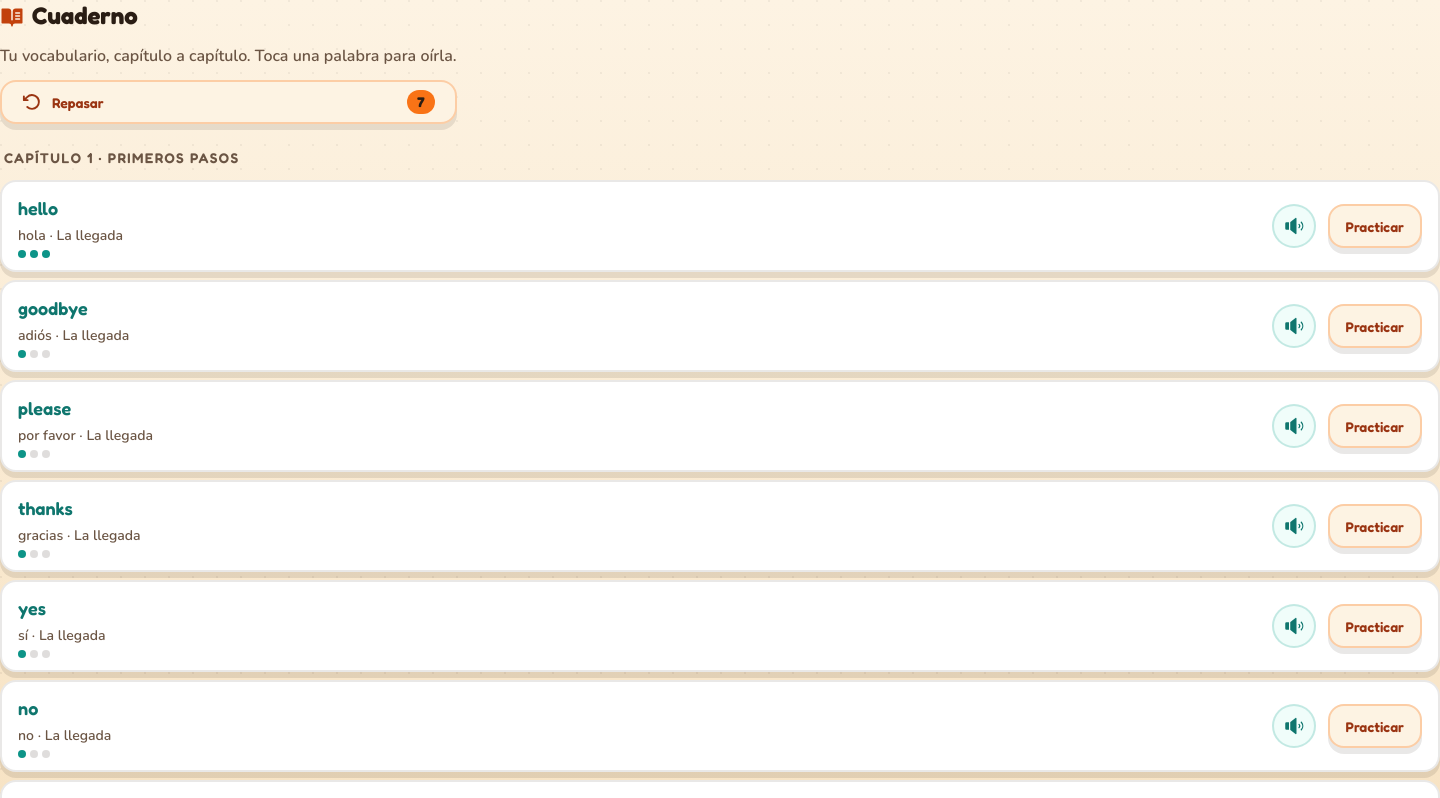
Notebook practice › solving an existing card keeps it untouched
Click the button with aria-label "Practicar hello". click: {"x": 1375, "y": 226}
box: x1=1328 y1=204 x2=1422 y2=248
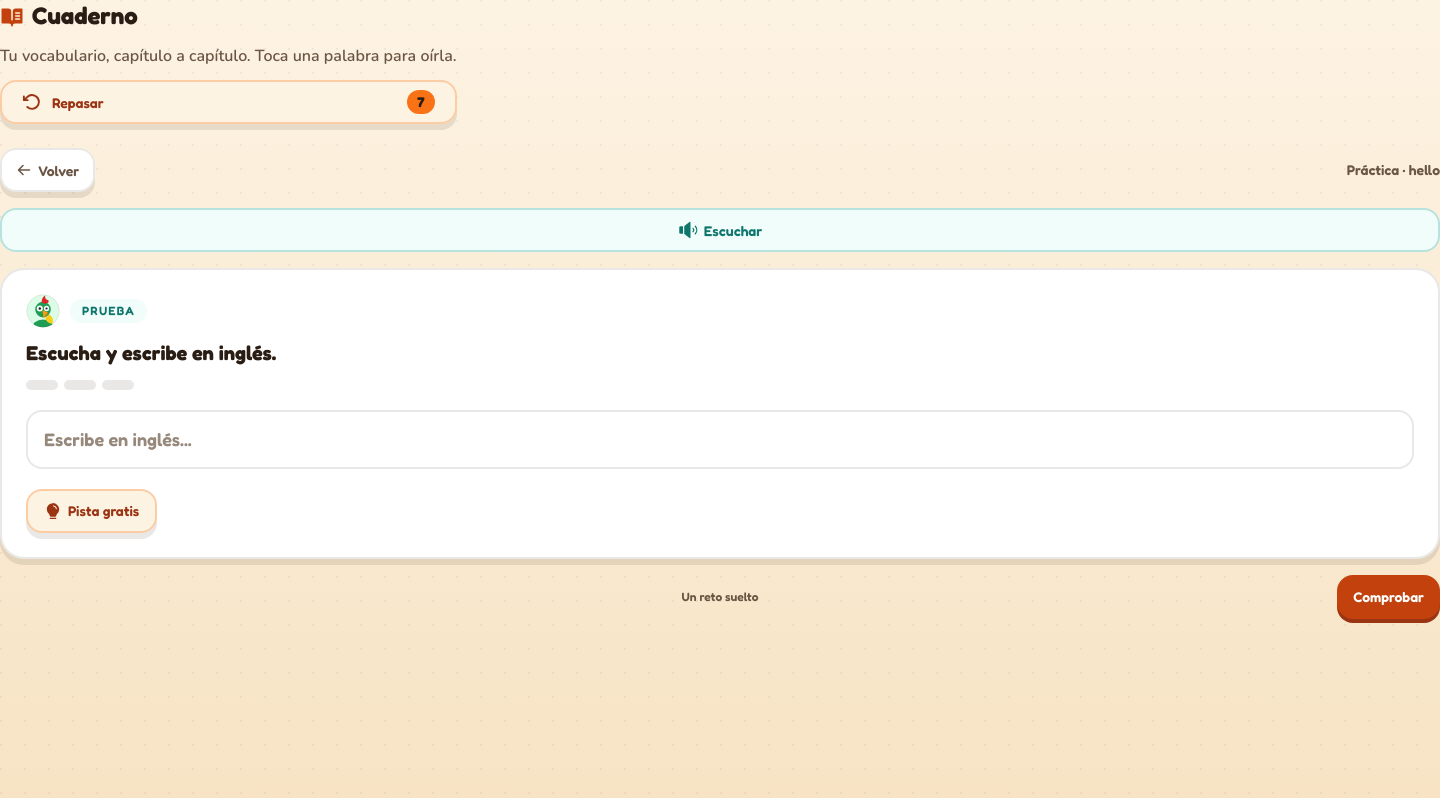
Type "hello" into the field named "Tu respuesta en inglés". click: {"x": 720, "y": 439}
box: x1=26 y1=410 x2=1414 y2=468
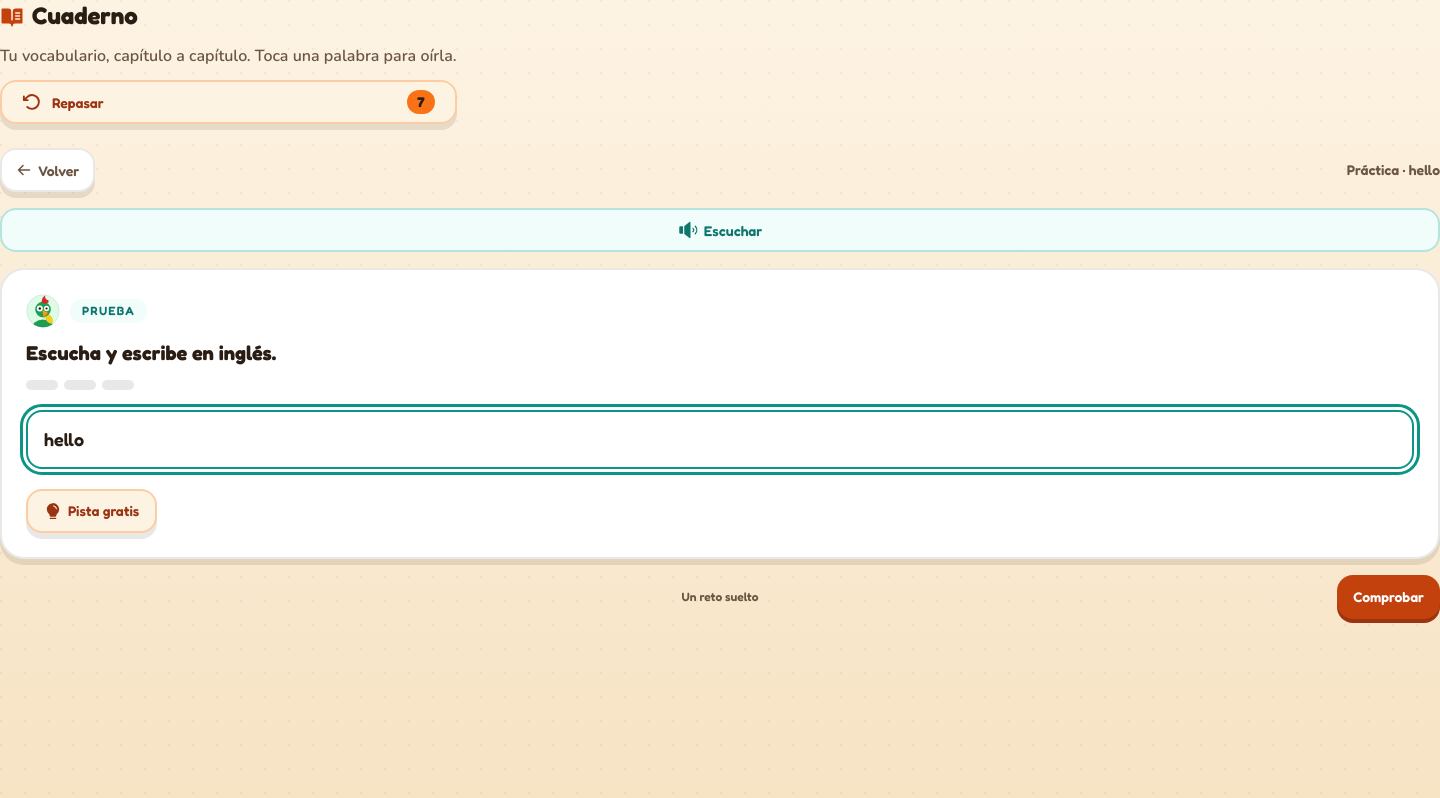
Submit the form with id "challenge-form", box x1=26 y1=410 x2=1414 y2=468
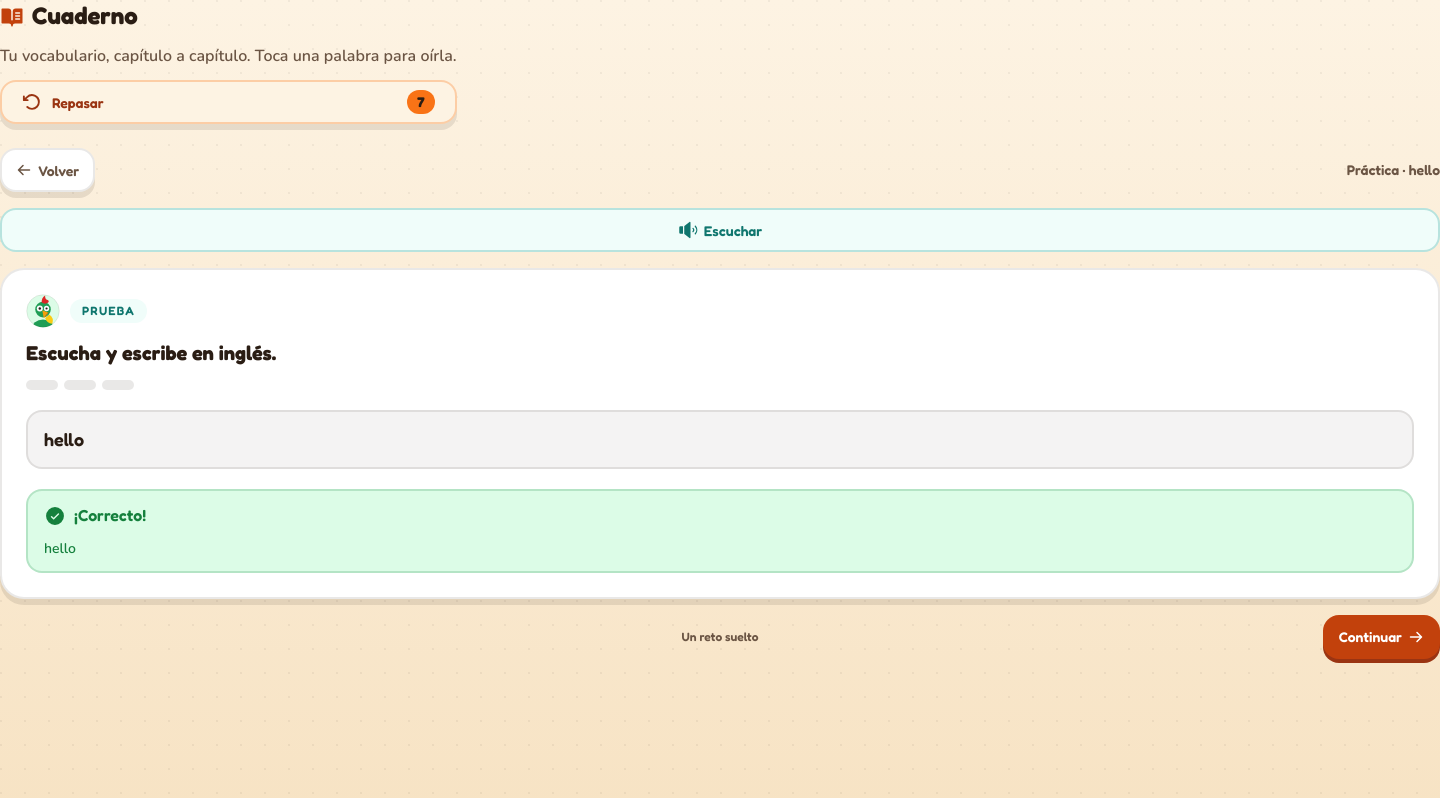
expect the button "Continuar" is shown: met, box x1=1323 y1=614 x2=1439 y2=658
